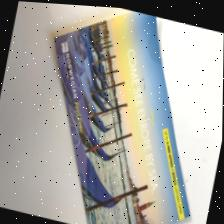paper: (16, 1, 224, 224)
